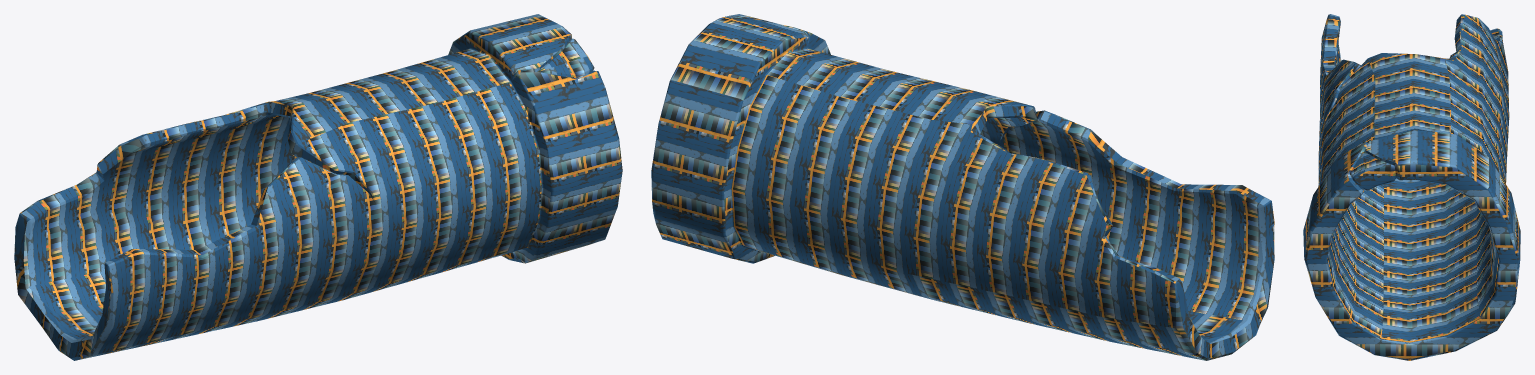
File: Prop_Pipe.glb
The picture shows the model from 3 angles, left to right: view 1: azimuth 30°, elevation 25°; view 2: azimuth 150°, elevation 25°; view 3: azimuth 270°, elevation 25°; orthographic projection. The views are drawn at different scales.
Visible parts, largest first — view 1: Prop_Pipe; view 2: Prop_Pipe; view 3: Prop_Pipe.
Boxes of the visible parts, x1,y1,x2,y2 form: Prop_Pipe: (14,14,622,360); Prop_Pipe: (651,14,1274,360); Prop_Pipe: (1303,14,1520,360).
Bounding box in the file's own units: 26.96 × 10.65 × 10.54.
Materials: 1 (1 with a texture image).
